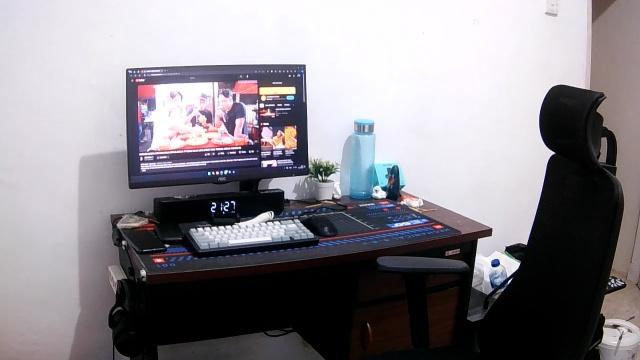AIO PC-Monitor-TV: (124, 62, 309, 192)
Kursi: (376, 82, 624, 359)
Meja: (108, 186, 492, 295)
